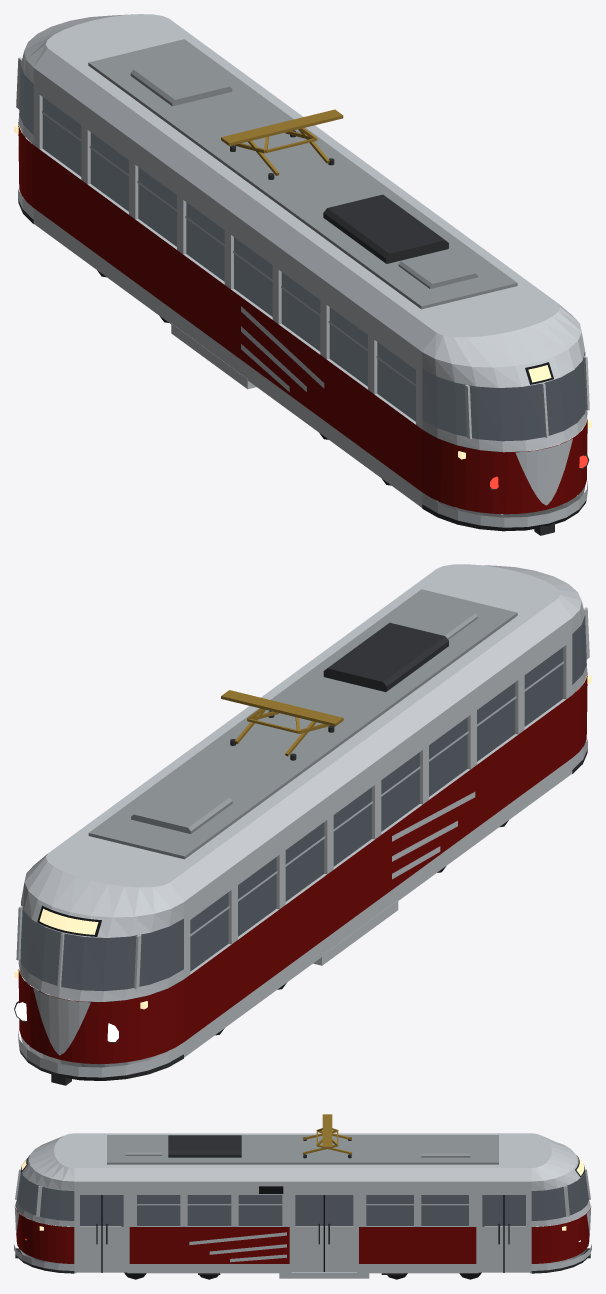
Rendered from t3rplf.glb.
3 renders of one model, top to bottom at view 1: azimuth 30°, elevation 25°; view 2: azimuth 150°, elevation 25°; view 3: azimuth 270°, elevation 25°, orthographic. The views are drawn at different scales.
Parts seen in each view (by area): view 1: t3rplf; view 2: t3rplf; view 3: t3rplf.
Part boxes in pixels (x1,y1,x2,y2): t3rplf: (14, 14, 591, 535); t3rplf: (14, 564, 591, 1085); t3rplf: (14, 1114, 591, 1279).
Size of the model in its own units: 2.51 by 3.57 by 14.16.
